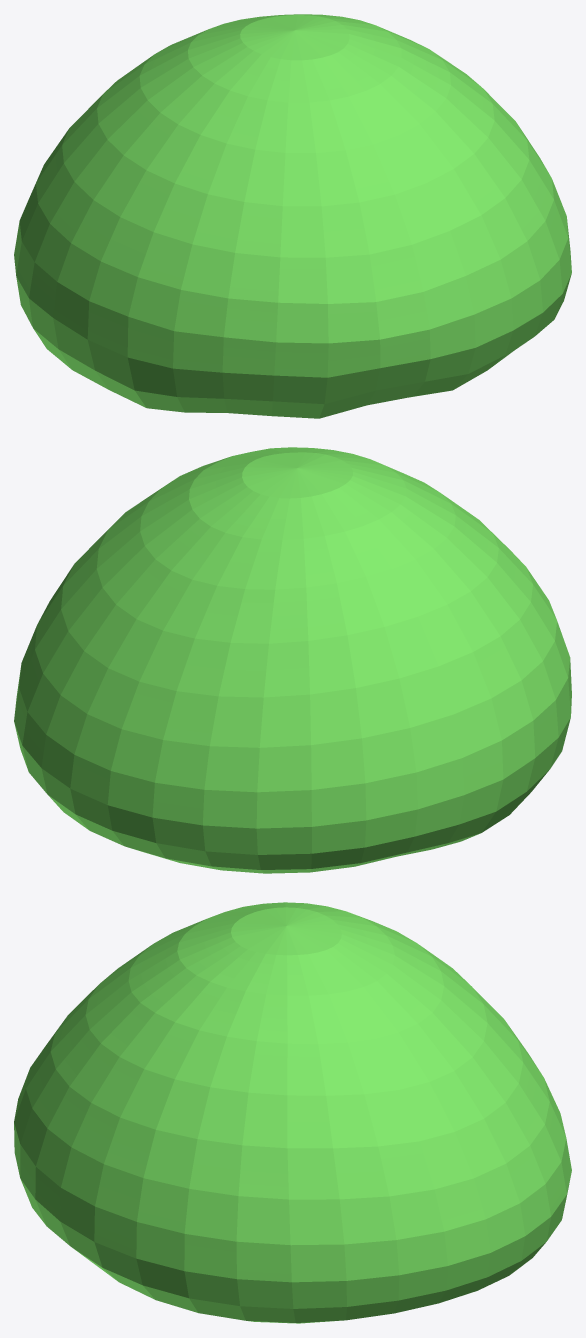
The model's file is Slimes.fbx.
The picture shows the model from 3 angles, top to bottom: view 1: azimuth 30°, elevation 25°; view 2: azimuth 150°, elevation 25°; view 3: azimuth 270°, elevation 25°; orthographic projection.
Parts seen in each view (by area): view 1: Sphere; view 2: Sphere; view 3: Sphere.
Boxes of the visible parts, x1,y1,x2,y2 form: Sphere: [14, 14, 571, 418]; Sphere: [14, 447, 571, 873]; Sphere: [14, 902, 571, 1323].
Bounding box in the file's own units: 199 × 124 × 200.
